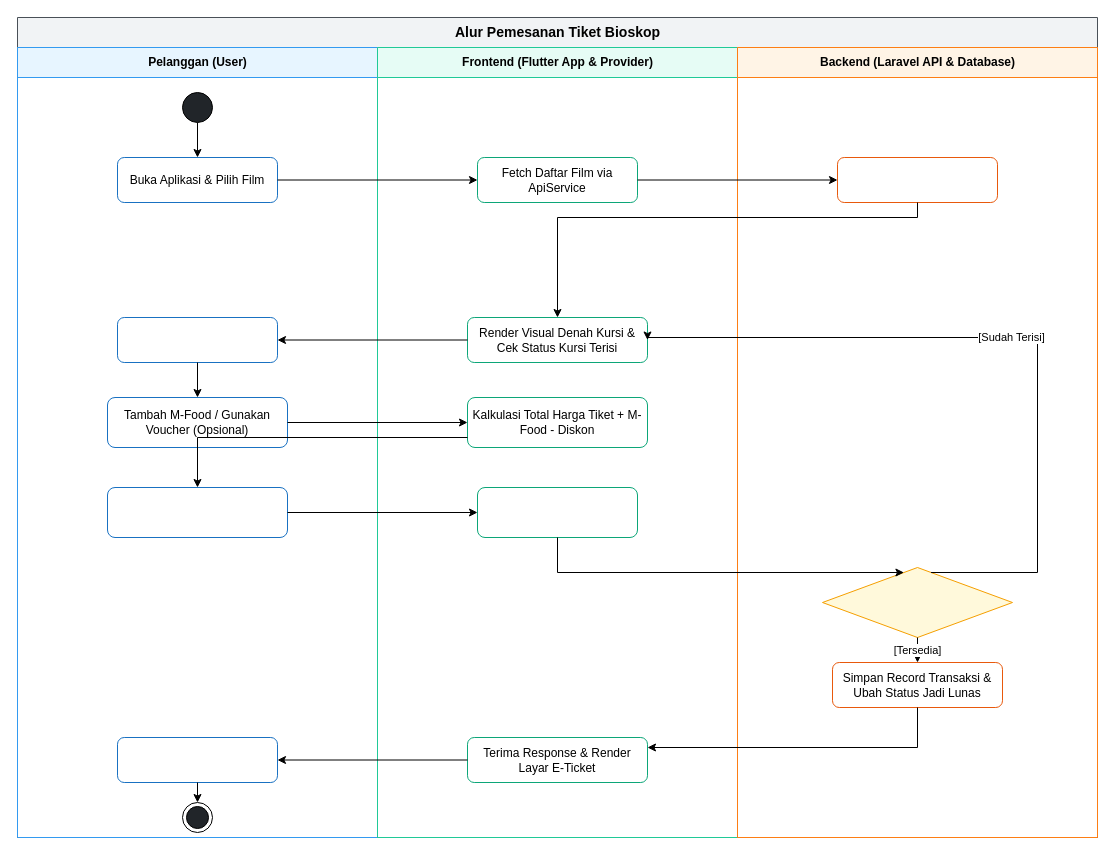
Some shapes in this 1115 by 855 pixel diagram are drawn without their labels. Here are the shapes that lost their labels. From the top down, the centre of each, then its label:
At point (917, 179): "Query Data Film & Jadwal dari DB".
At point (197, 339): "Pilih Jadwal & Kursi Bioskop".
At point (197, 512): "Pilih Metode Pembayaran & Konfirmasi Checkout".
At point (557, 512): "Kirim Request Transaksi ke REST API".
At point (917, 602): "Validasi Ketersediaan Kursi (Anti Double-Booking)".
At point (197, 759): "Melihat Bukti E-Ticket & QR Code".
